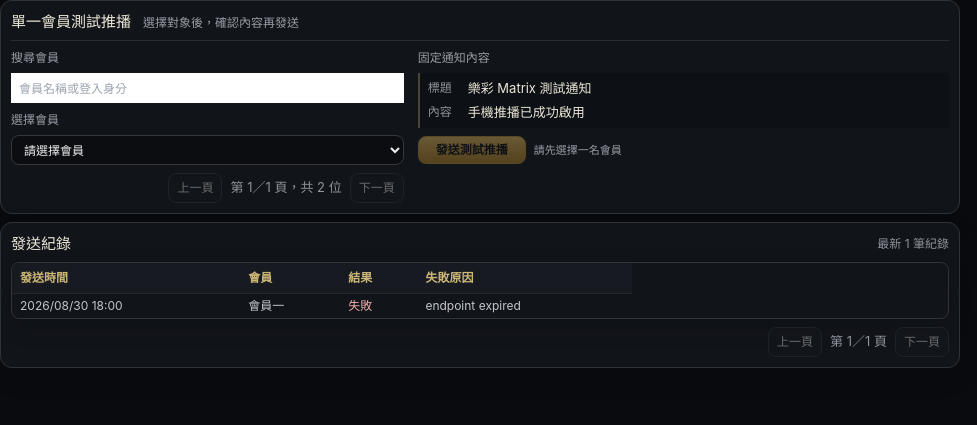
it: NotificationManagement › keeps sending disabled until an active member is selected and shows the member name
Expected: the button "發送測試推播" is disabled, [418,136,526,164]
Select "會員二" in the dropdown named "選擇會員": (207, 150) [11,135,404,165]
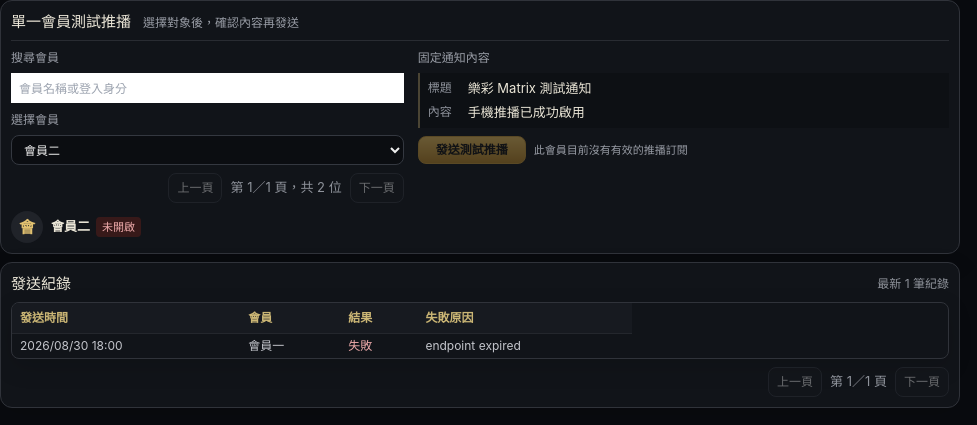
Expected: the button "發送測試推播" is disabled, [418,136,526,164]
Result: the text "會員二" is shown at [51,217,90,237]
Result: the text "未開啟" is shown at [96,217,141,237]
Select "會員一" in the dropdown named "選擇會員": (207, 150) [11,135,404,165]
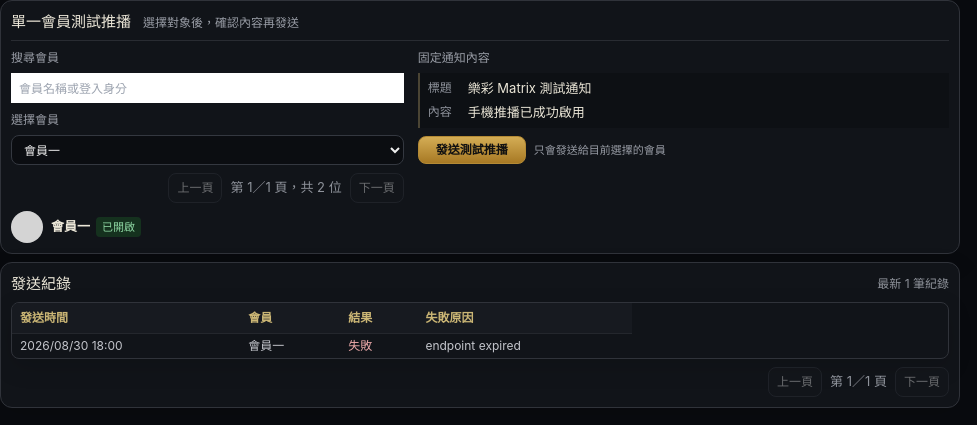
Expected: the text "會員一" is shown, [51,217,90,237]
Result: the text "已開啟" is shown at [96,217,141,237]
Result: the button "發送測試推播" is enabled at [418,136,526,164]
